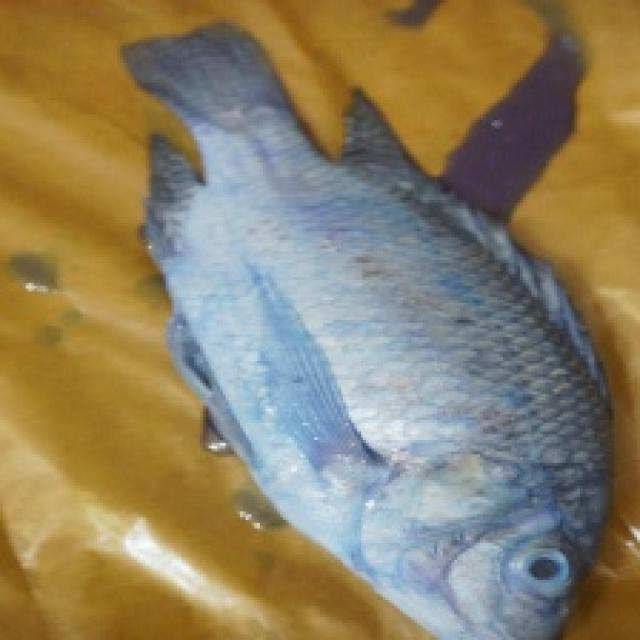Non-Fresh: (196, 203, 625, 637)
